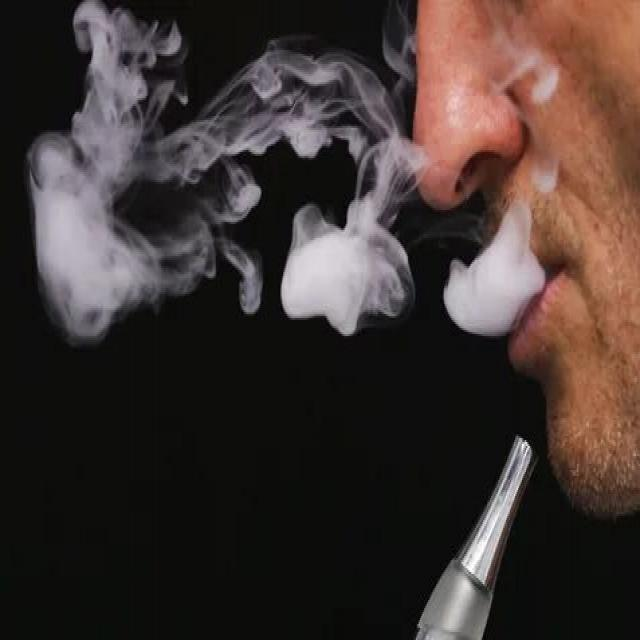cigarette: (397, 426, 545, 640)
